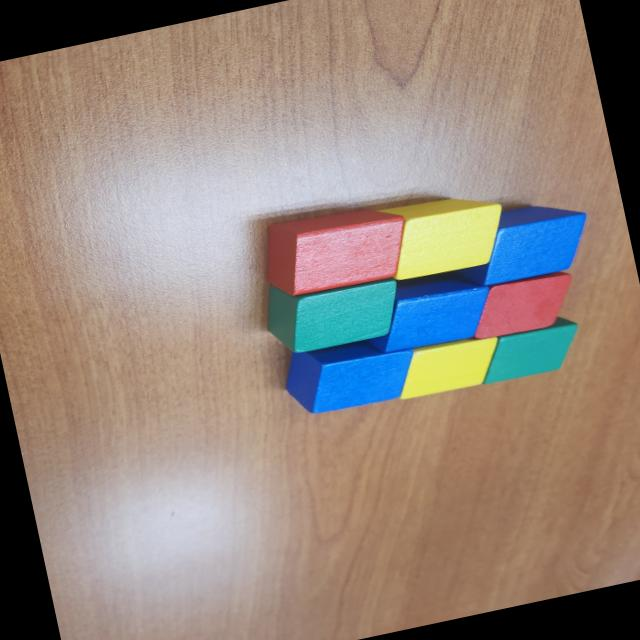blue: (442, 195, 597, 292), (278, 326, 423, 421), (354, 268, 499, 360)
green: (258, 258, 406, 359), (471, 312, 586, 386)
red: (254, 196, 416, 302), (460, 268, 582, 346)
yellow: (374, 185, 512, 284), (386, 330, 506, 402)
